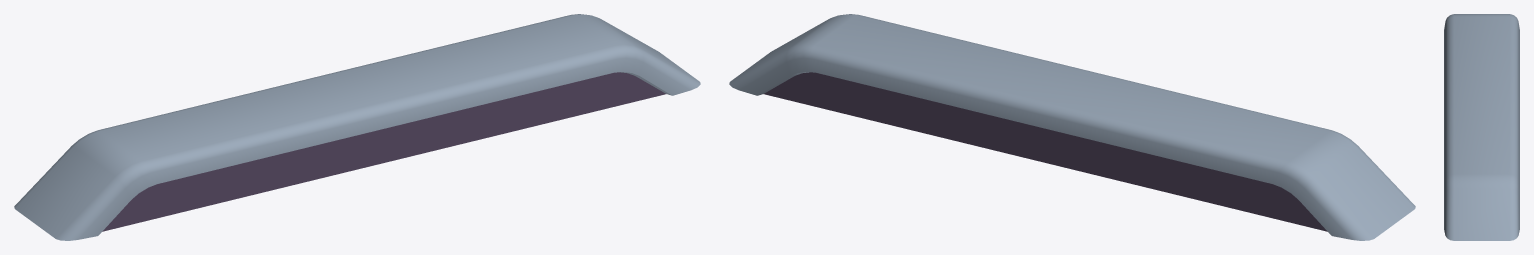
Rendered from RoadSideDecor01.fbx.
The picture shows the model from 3 angles, left to right: view 1: azimuth 30°, elevation 25°; view 2: azimuth 150°, elevation 25°; view 3: azimuth 270°, elevation 25°; orthographic projection. The views are drawn at different scales.
Visible parts, largest first — view 1: RoadSideDecor_LOD0; view 2: RoadSideDecor_LOD0; view 3: RoadSideDecor_LOD0.
Part boxes in pixels (bbox=[...]): RoadSideDecor_LOD0: bbox=[14, 14, 700, 240]; RoadSideDecor_LOD0: bbox=[729, 14, 1415, 240]; RoadSideDecor_LOD0: bbox=[1444, 14, 1519, 240].
Size of what is drawn, in the model's own units: 437 by 36.98 by 65.67.
